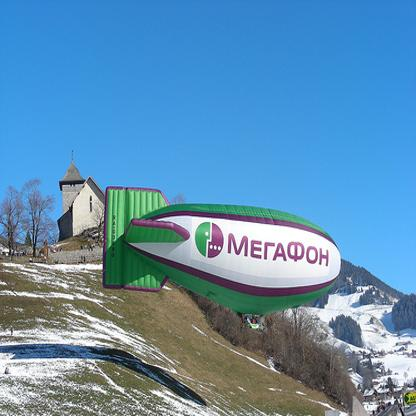Airship: (102, 184, 345, 314)
